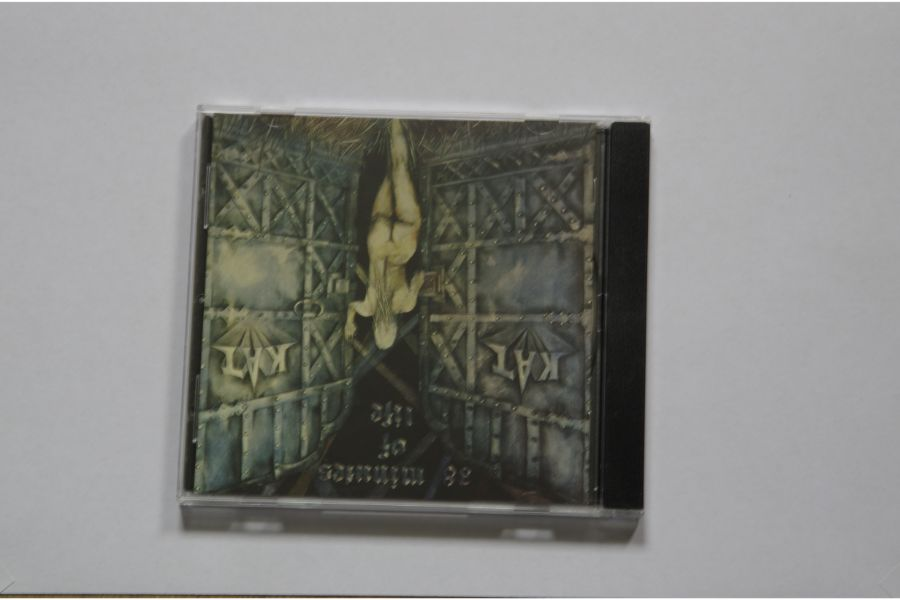album: (179, 104, 646, 517)
